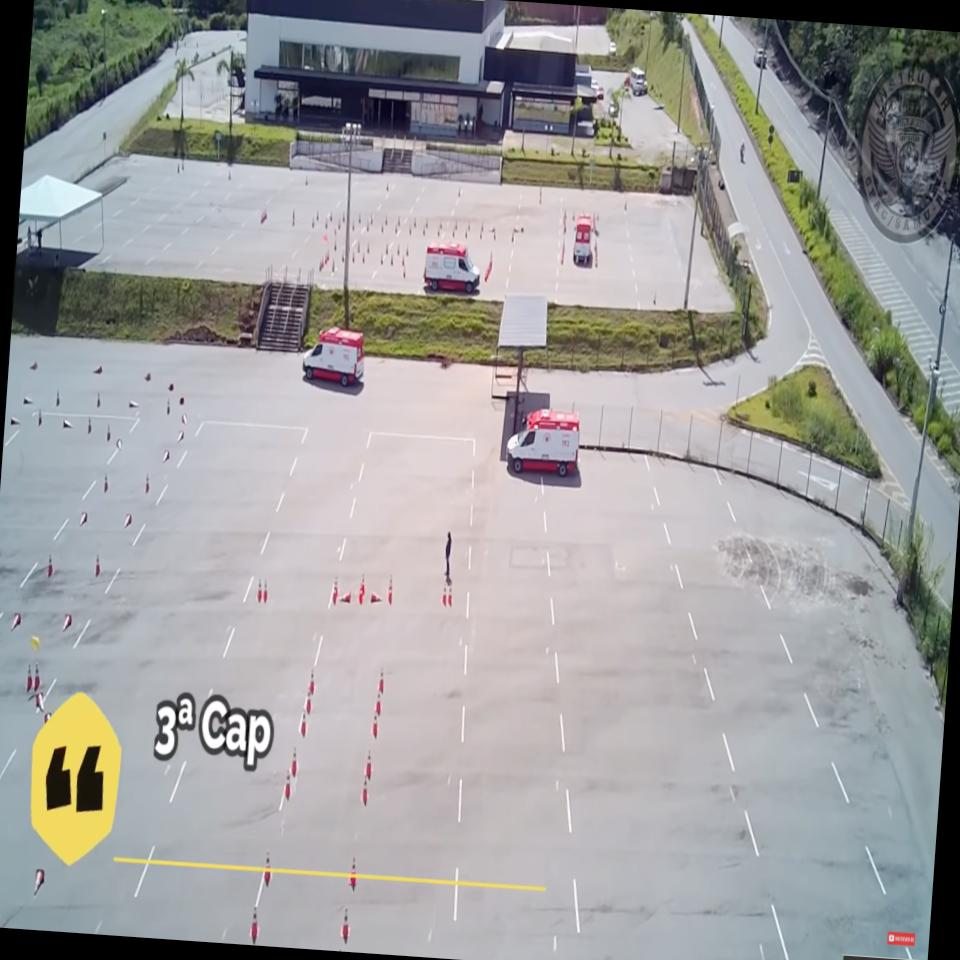bombeiro: (504, 406, 584, 479), (300, 326, 368, 389), (423, 240, 483, 295), (570, 212, 596, 266)
